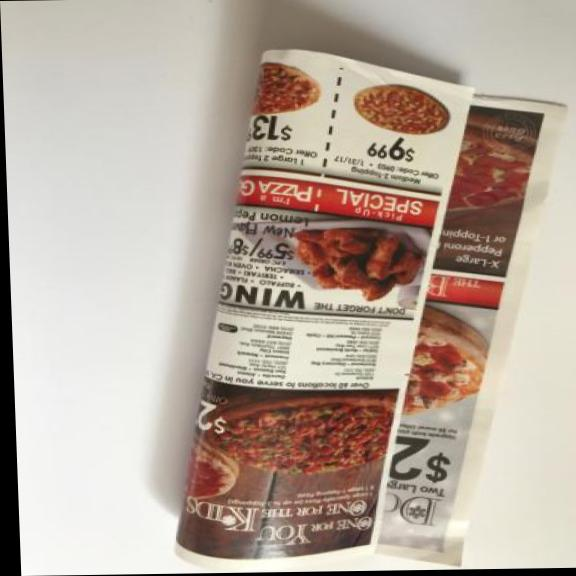Kertas: (146, 40, 576, 572)
